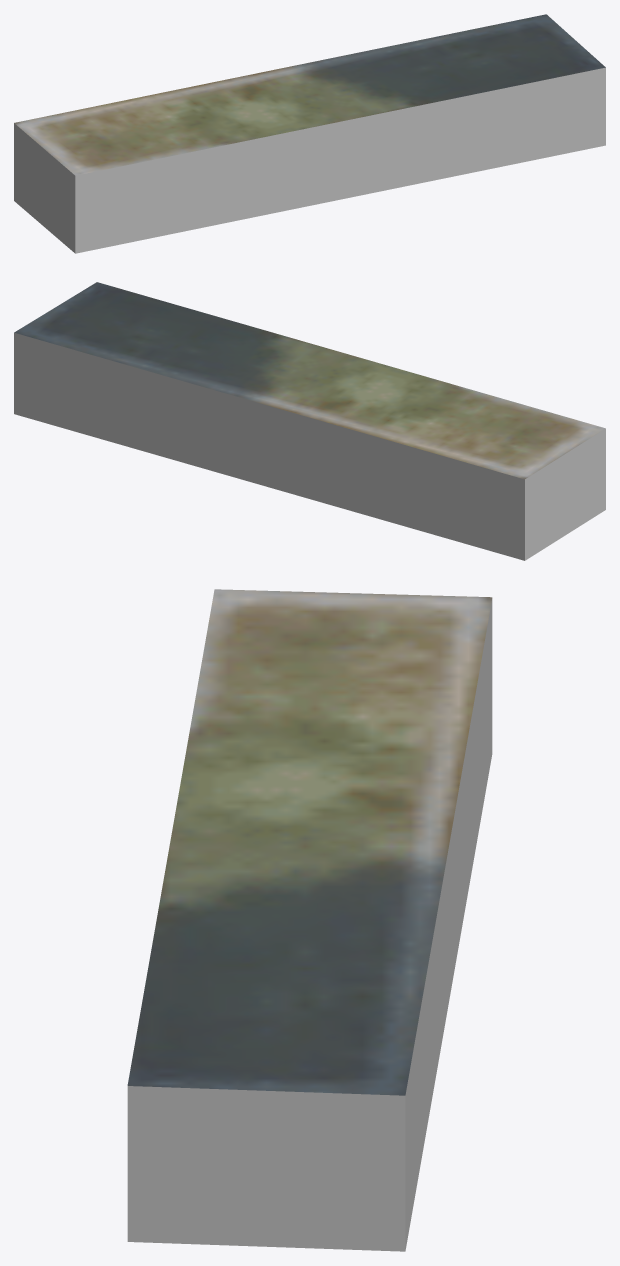
File: DEBW_001000hBWQp.gltf
3 renders of one model, top to bottom at view 1: azimuth 30°, elevation 25°; view 2: azimuth 150°, elevation 25°; view 3: azimuth 270°, elevation 25°, orthographic. The views are drawn at different scales.
Visible parts, largest first — view 1: Z_UP; view 2: Z_UP; view 3: Z_UP.
Boxes of the visible parts, <box> form: Z_UP: <box>14,14,605,253</box>; Z_UP: <box>14,282,605,560</box>; Z_UP: <box>127,589,492,1251</box>.
Bounding box in the file's own units: 24.92 × 3.58 × 7.59.
Materials: 2 (1 with a texture image).
